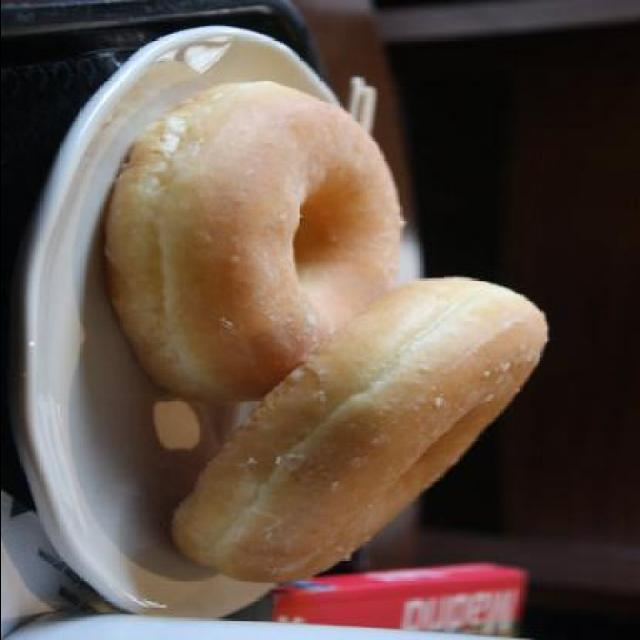Donuts: (8, 74, 564, 597)
